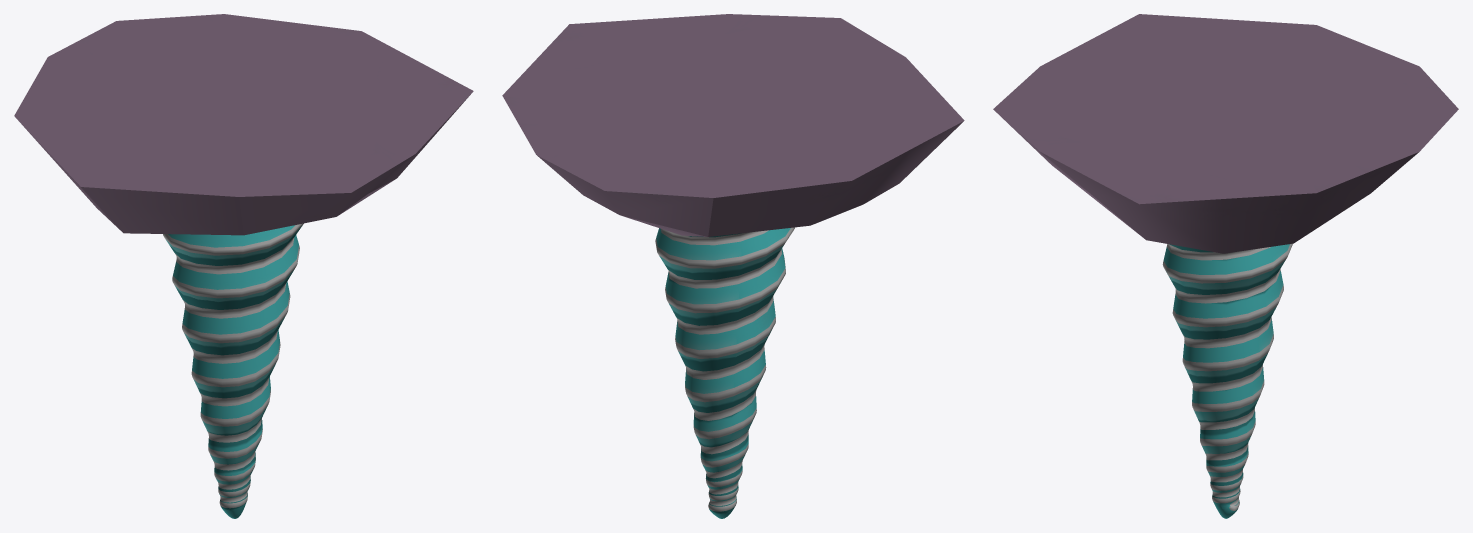
The model's file is m_environment2_stalagmite_4_je_4.fbx.
3 renders of one model, left to right at view 1: azimuth 30°, elevation 25°; view 2: azimuth 150°, elevation 25°; view 3: azimuth 270°, elevation 25°, orthographic.
Parts seen in each view (by area): view 1: polySurface295; view 2: polySurface295; view 3: polySurface295.
Part boxes in pixels (left/top/right/bottom): polySurface295: left=14, top=14, right=473, bottom=518; polySurface295: left=502, top=14, right=964, bottom=518; polySurface295: left=993, top=14, right=1458, bottom=518.
Bounding box in the file's own units: 6.04 × 6.06 × 6.26.
